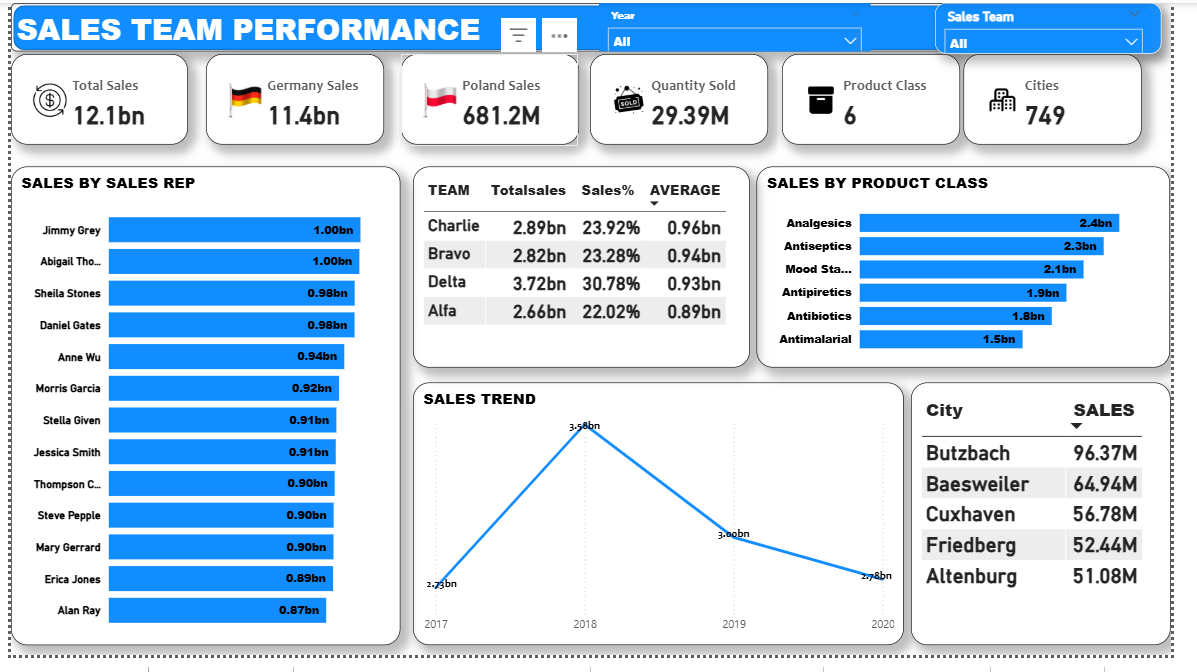

What the dashboard file says about the page in this screenshot:
{"tool":"powerbi","page":{"name":"SALES TEAM PERFORMANCE","canvas":[1280,720],"ordinal":1},"visuals":[{"type":"shape","box":[0,0,1261.7,53.3],"z":0},{"type":"cardVisual","fields":{"Data":["PHARM.Sales"]},"box":[0,56.7,195,100],"z":1000},{"type":"cardVisual","fields":{"Data":["PHARM.Sales"]},"box":[430,56.7,196.7,100],"z":2000},{"type":"cardVisual","fields":{"Data":["PHARM.Quantity"]},"box":[640,56.7,196.7,100],"z":3000},{"type":"cardVisual","fields":{"Data":["DIM_PRODUCT.Product_Class"]},"box":[851.7,56.7,196.7,100],"z":4000},{"type":"cardVisual","fields":{"Data":["PHARM.Sales"]},"box":[215,56.7,196.7,100],"z":5000},{"type":"cardVisual","fields":{"Data":["PHARM.City"]},"box":[1051.7,56.7,196.7,100],"z":6000},{"type":"lineChart","title":"SALES TREND","fields":{"Category":["DIM_CALENDAR.Year","DIM_CALENDAR.Date.Variation.Date Hierarchy.Month"],"Y":["PHARM.Sales"]},"box":[443.3,418.3,541.7,290],"z":7000},{"type":"barChart","title":"SALES BY PRODUCT CLASS","fields":{"Category":["DIM_PRODUCT.Product_Class"],"Y":["PHARM.Sales"]},"box":[823.3,180,456.7,221.7],"z":8000},{"type":"pivotTable","fields":{"Values":["PHARM.Sales"],"Rows":["PHARM.City"]},"box":[993.3,418.3,286.7,290],"z":9000},{"type":"slicer","fields":{"Values":["DIM_CALENDAR.Year"]},"box":[650,0,300,53.3],"z":10000},{"type":"pivotTable","fields":{"Rows":["DIM_SALES_TEAM.Sales_Team"],"Values":["DAX.Totalsales sumx","Divide(Sum(PHARM.Sales), ScopedEval(Sum(PHARM.Sales), []))","DAX.Average salesrep salesx"]},"box":[443.3,180,371.7,221.7],"z":11000},{"type":"slicer","fields":{"Values":["DIM_SALES_TEAM.Sales_Team"]},"box":[1020,0,250,56],"z":12000},{"type":"barChart","title":"SALES BY SALES REP","fields":{"Category":["DIM_SALES_TEAM.Name_of_Sales_Rep"],"Y":["PHARM.Sales"]},"box":[0,180,430,528.3],"z":13000}]}

Visuals, with their boxes in screenshot pixels (x1, y1, x2, y2), scaled from the page's 1280x720 canvas onto the 1197x672 screenshot:
shape: left=0, top=0, right=1180, bottom=50
cardVisual - PHARM.Sales: left=0, top=53, right=182, bottom=146
cardVisual - PHARM.Sales: left=402, top=53, right=586, bottom=146
cardVisual - PHARM.Quantity: left=598, top=53, right=782, bottom=146
cardVisual - DIM_PRODUCT.Product_Class: left=796, top=53, right=980, bottom=146
cardVisual - PHARM.Sales: left=201, top=53, right=385, bottom=146
cardVisual - PHARM.City: left=984, top=53, right=1167, bottom=146
"SALES TREND" lineChart: left=415, top=390, right=921, bottom=661
"SALES BY PRODUCT CLASS" barChart: left=770, top=168, right=1196, bottom=375
pivotTable - PHARM.Sales x PHARM.City: left=929, top=390, right=1196, bottom=661
slicer - DIM_CALENDAR.Year: left=608, top=0, right=888, bottom=50
pivotTable - DIM_SALES_TEAM.Sales_Team x DAX.Totalsales sumx: left=415, top=168, right=762, bottom=375
slicer - DIM_SALES_TEAM.Sales_Team: left=954, top=0, right=1188, bottom=52
"SALES BY SALES REP" barChart: left=0, top=168, right=402, bottom=661
